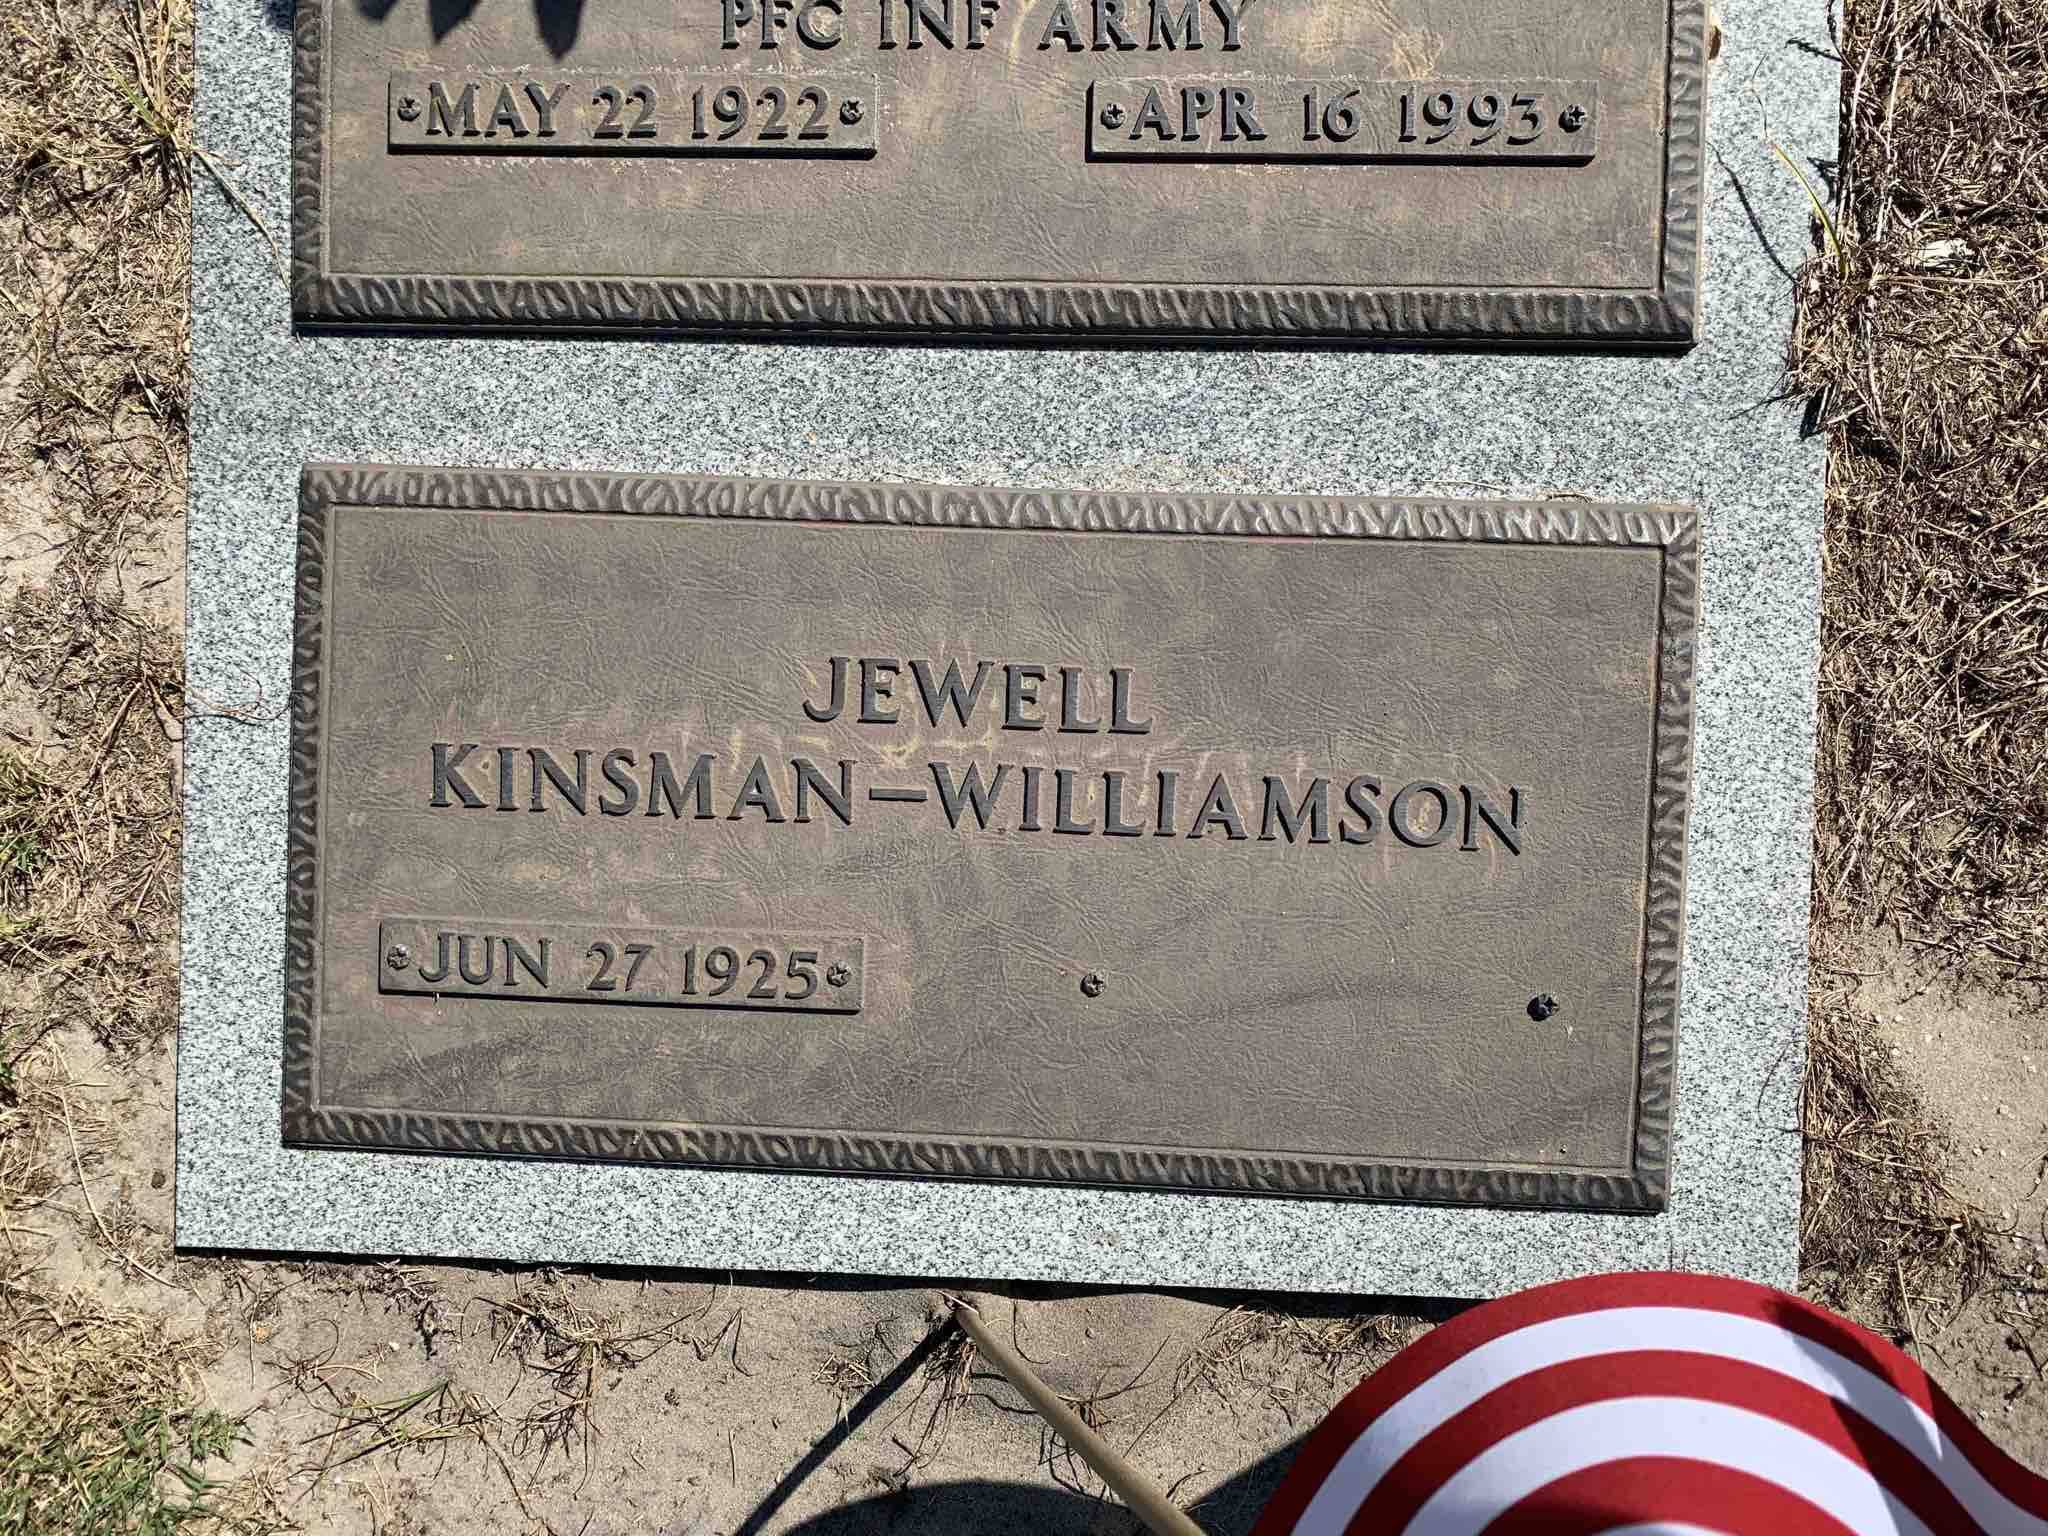flat: (164, 424, 1813, 1291)
